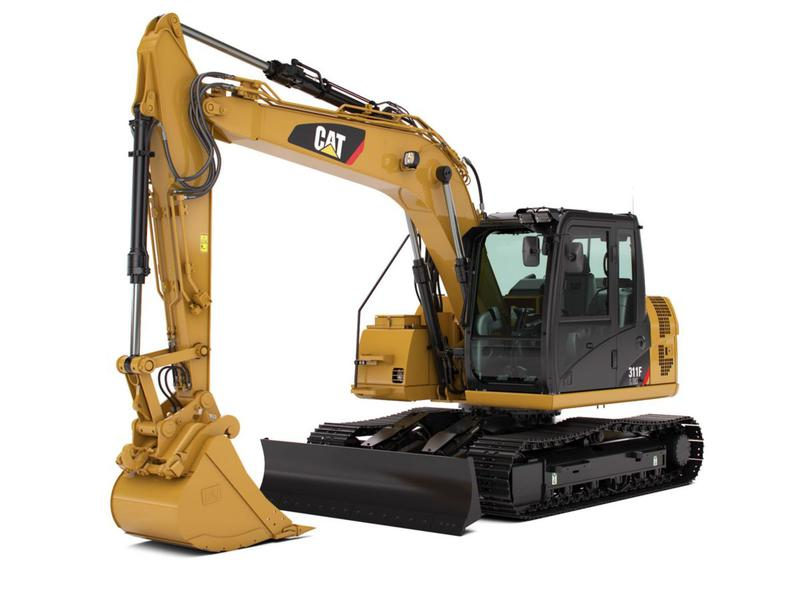shovel: (105, 11, 710, 562)
